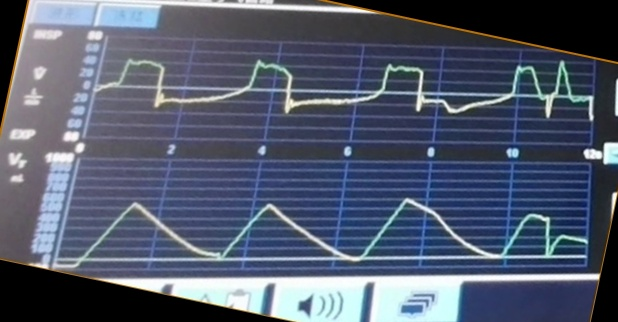Double_Triggering Flow: (104, 56, 582, 139)
Double_Triggering Volume: (73, 193, 586, 266)
